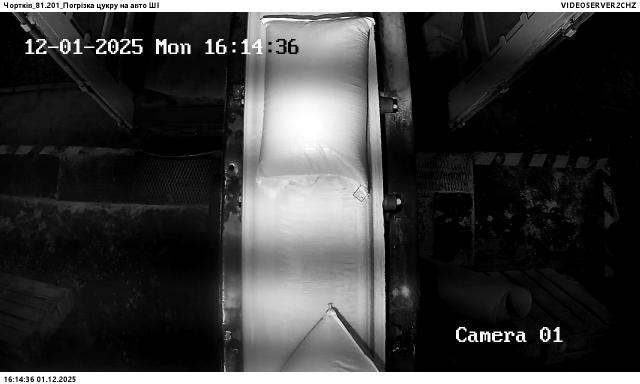bag: (256, 14, 374, 201), (282, 303, 379, 372)
